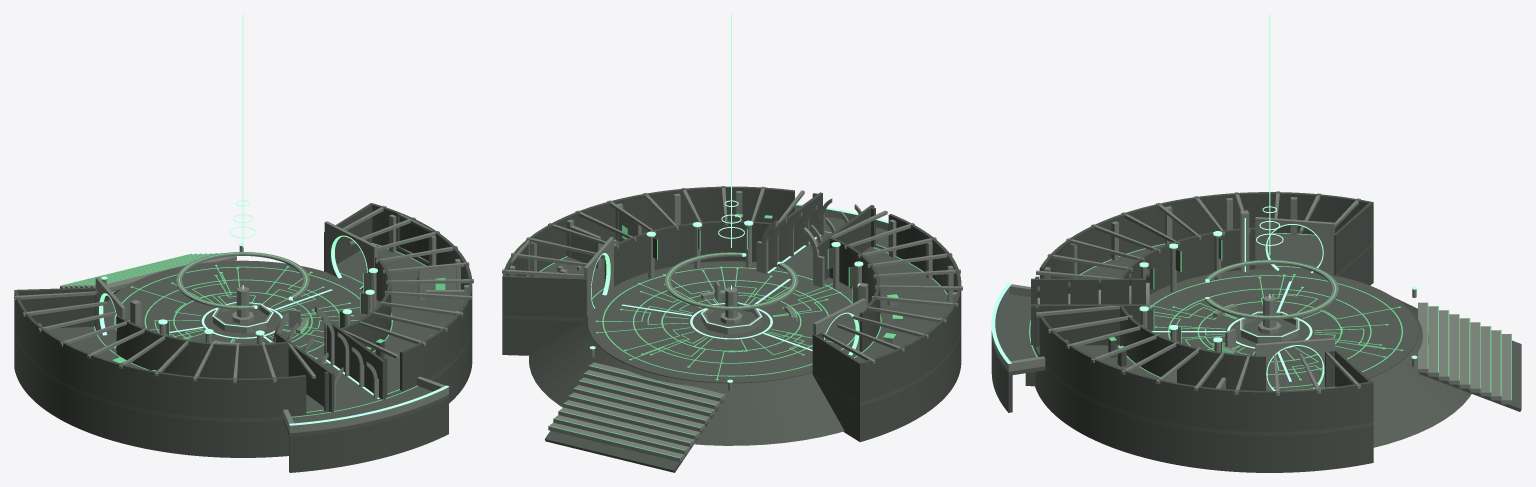
Rendered from lobby.glb.
3 views of the same model, side by side, from view 1: azimuth 30°, elevation 25°; view 2: azimuth 150°, elevation 25°; view 3: azimuth 270°, elevation 25° (orthographic). The views are drawn at different scales.
Parts seen in each view (by area): view 1: lobby-000, lobby-018, lobby-014, lobby-183, lobby-015, lobby-056, lobby-052, lobby-013, lobby-019, lobby-177, lobby-009, lobby-055 (+13 smaller); view 2: lobby-000, lobby-152, lobby-056, lobby-018, lobby-055, lobby-013, lobby-014, lobby-058, lobby-005, lobby-015, lobby-019, lobby-059 (+23 smaller); view 3: lobby-000, lobby-056, lobby-053, lobby-018, lobby-152, lobby-055, lobby-015, lobby-007, lobby-009, lobby-013, lobby-177, lobby-052 (+20 smaller).
Part boxes in pixels (x1,y1,x2,y2): lobby-000: (103, 260, 378, 369); lobby-018: (14, 289, 306, 418); lobby-014: (14, 333, 288, 457); lobby-183: (289, 398, 448, 472); lobby-015: (116, 315, 288, 378); lobby-056: (370, 203, 472, 390); lobby-052: (324, 244, 472, 397); lobby-013: (14, 326, 328, 421); lobby-019: (14, 287, 95, 327); lobby-177: (283, 385, 448, 436); lobby-009: (327, 320, 385, 399); lobby-055: (341, 257, 391, 351); lobby-000: (588, 261, 855, 383); lobby-152: (529, 316, 844, 445); lobby-056: (502, 186, 794, 315); lobby-018: (858, 214, 961, 402); lobby-055: (604, 221, 771, 285); lobby-013: (812, 246, 961, 405); lobby-014: (857, 329, 961, 441); lobby-058: (502, 275, 586, 317); lobby-005: (595, 266, 841, 380); lobby-015: (829, 237, 880, 351); lobby-019: (812, 335, 862, 401); lobby-059: (502, 319, 582, 355); lobby-000: (1149, 269, 1417, 390); lobby-056: (1039, 316, 1373, 431); lobby-053: (1035, 351, 1373, 472); lobby-018: (1039, 192, 1373, 278); lobby-152: (1370, 297, 1471, 447); lobby-055: (1120, 306, 1265, 390); lobby-015: (1120, 227, 1255, 293); lobby-007: (1031, 278, 1145, 304); lobby-009: (1031, 304, 1147, 345); lobby-013: (1077, 233, 1373, 294); lobby-177: (991, 294, 1045, 375); lobby-052: (1035, 345, 1373, 435).
Size of the model in its own units: 54.78 by 46.26 by 60.84.
